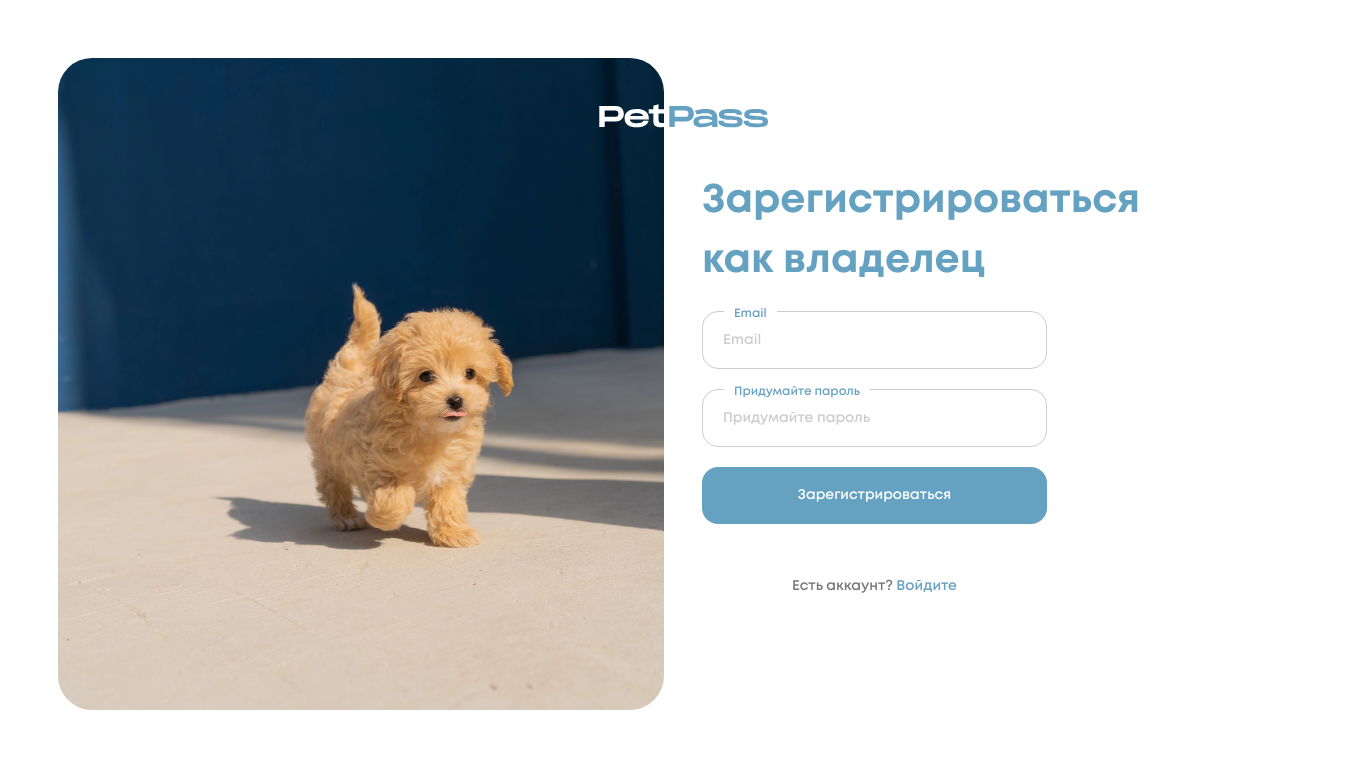
Test: Signup owner page › signup-owner-2: Server error
Type "server@mail.ru" into the field with placeholder "Email". click: (875, 340)
box: [702,311,1047,369]
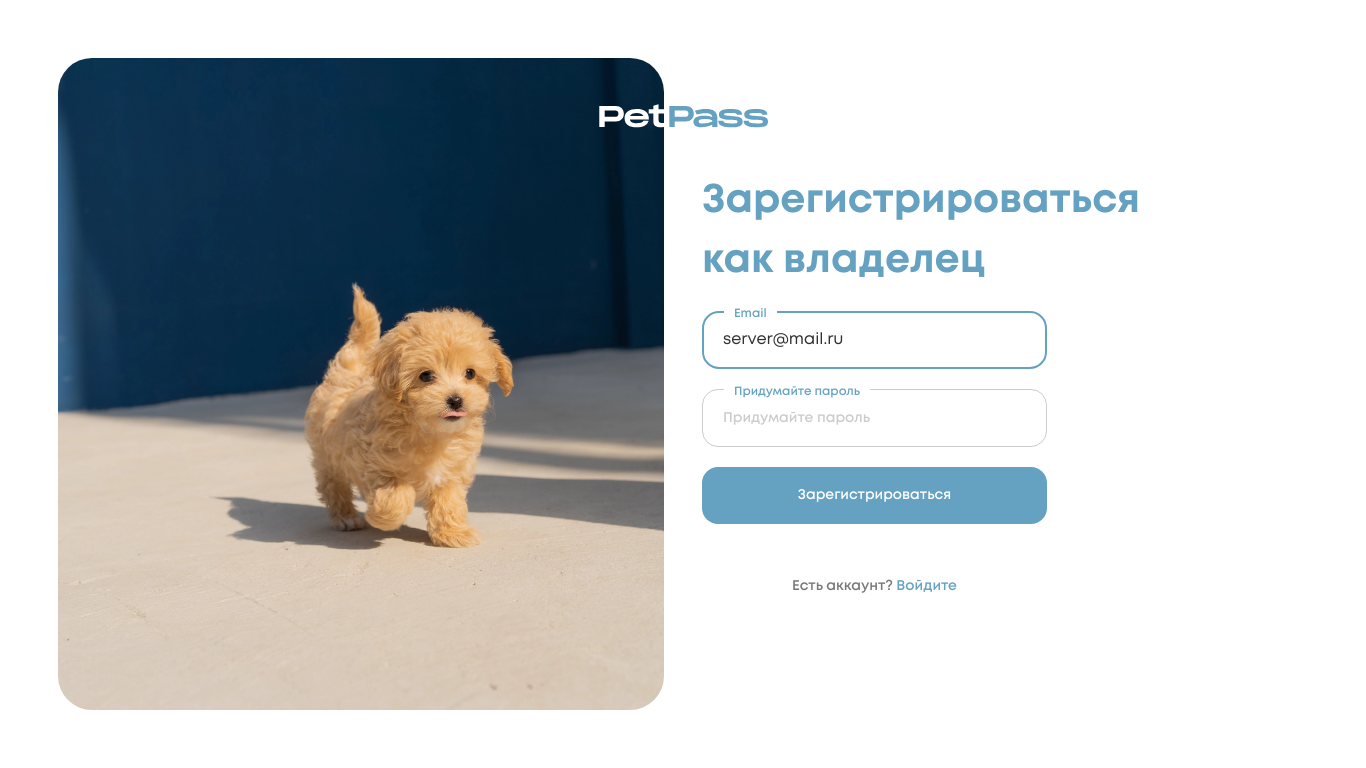
Type "password" into the password field with placeholder "Придумайте пароль". click: (875, 418)
box: [702,389,1047,447]
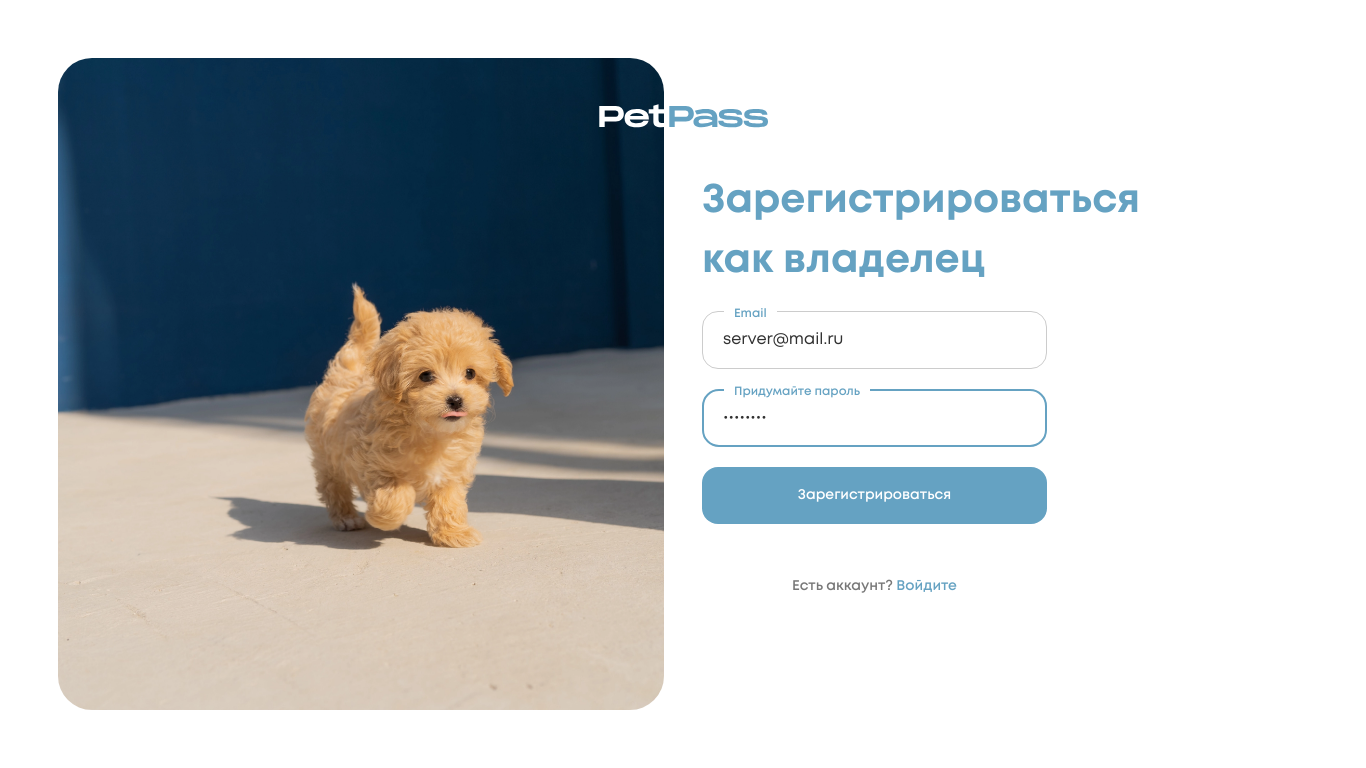
Click the button "Зарегистрироваться". click: (875, 496)
box: [702,467,1047,524]
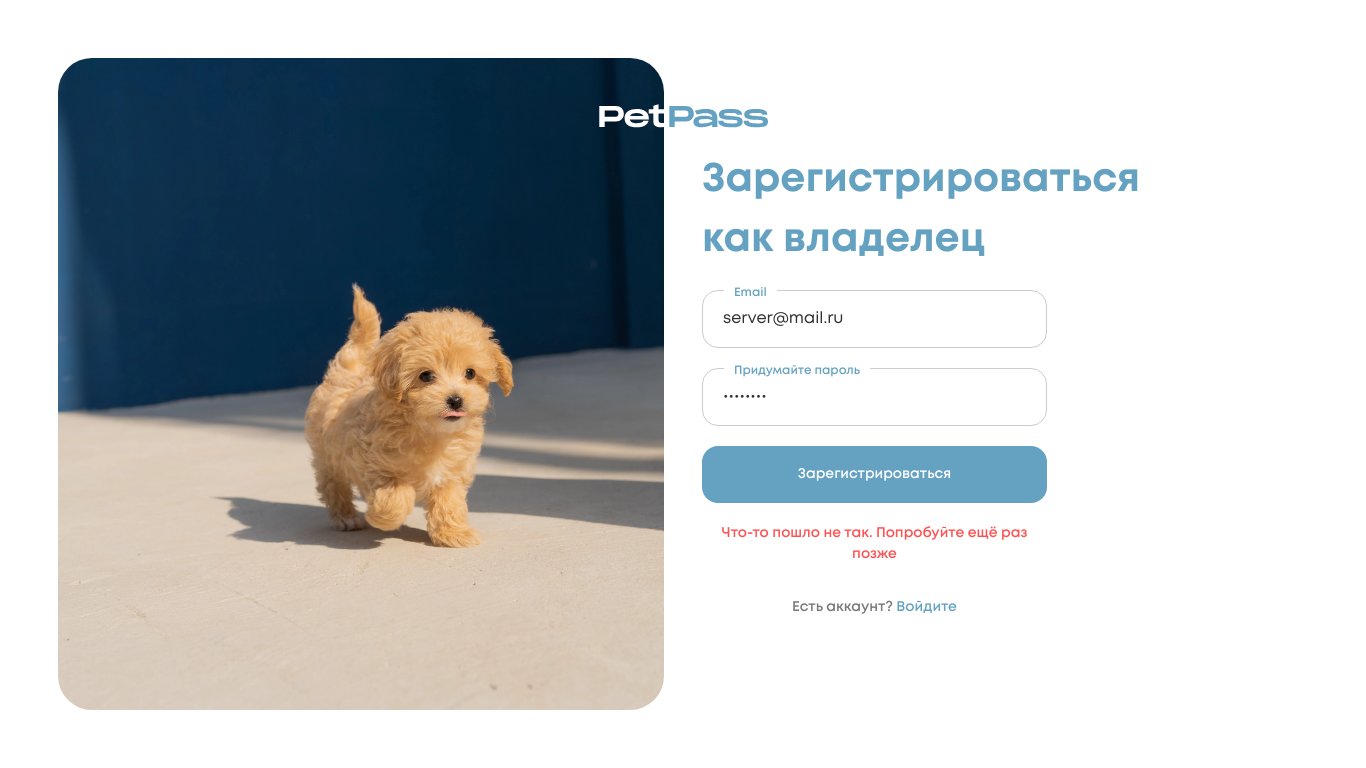
Expected: the message "Что-то пошло не так. Попробуйте ещё раз позже" is shown, [702,523,1047,565]
